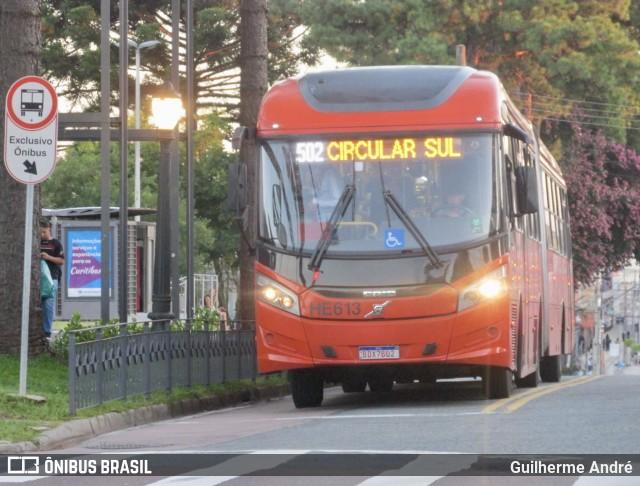CIRCULAR SUL: (323, 133, 464, 164)
